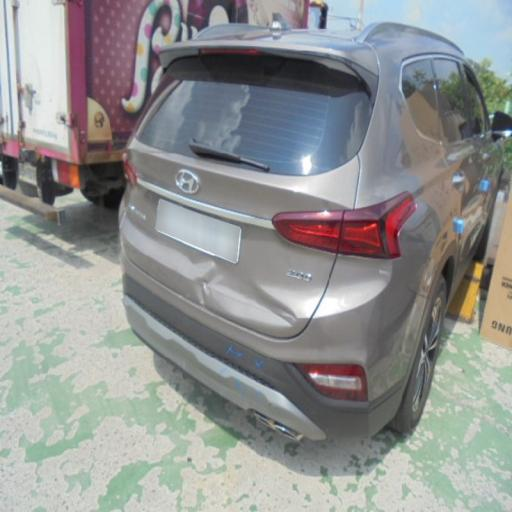dent: (178, 201, 292, 370)
